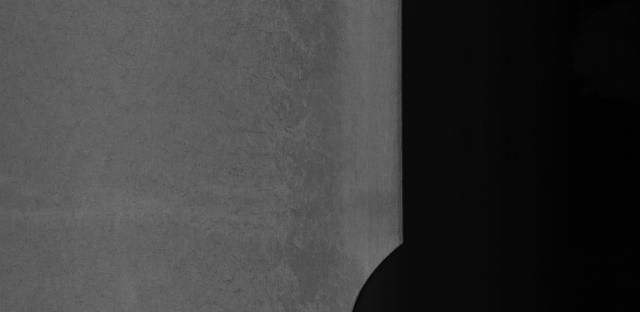crescent_gap: (338, 232, 427, 312)
